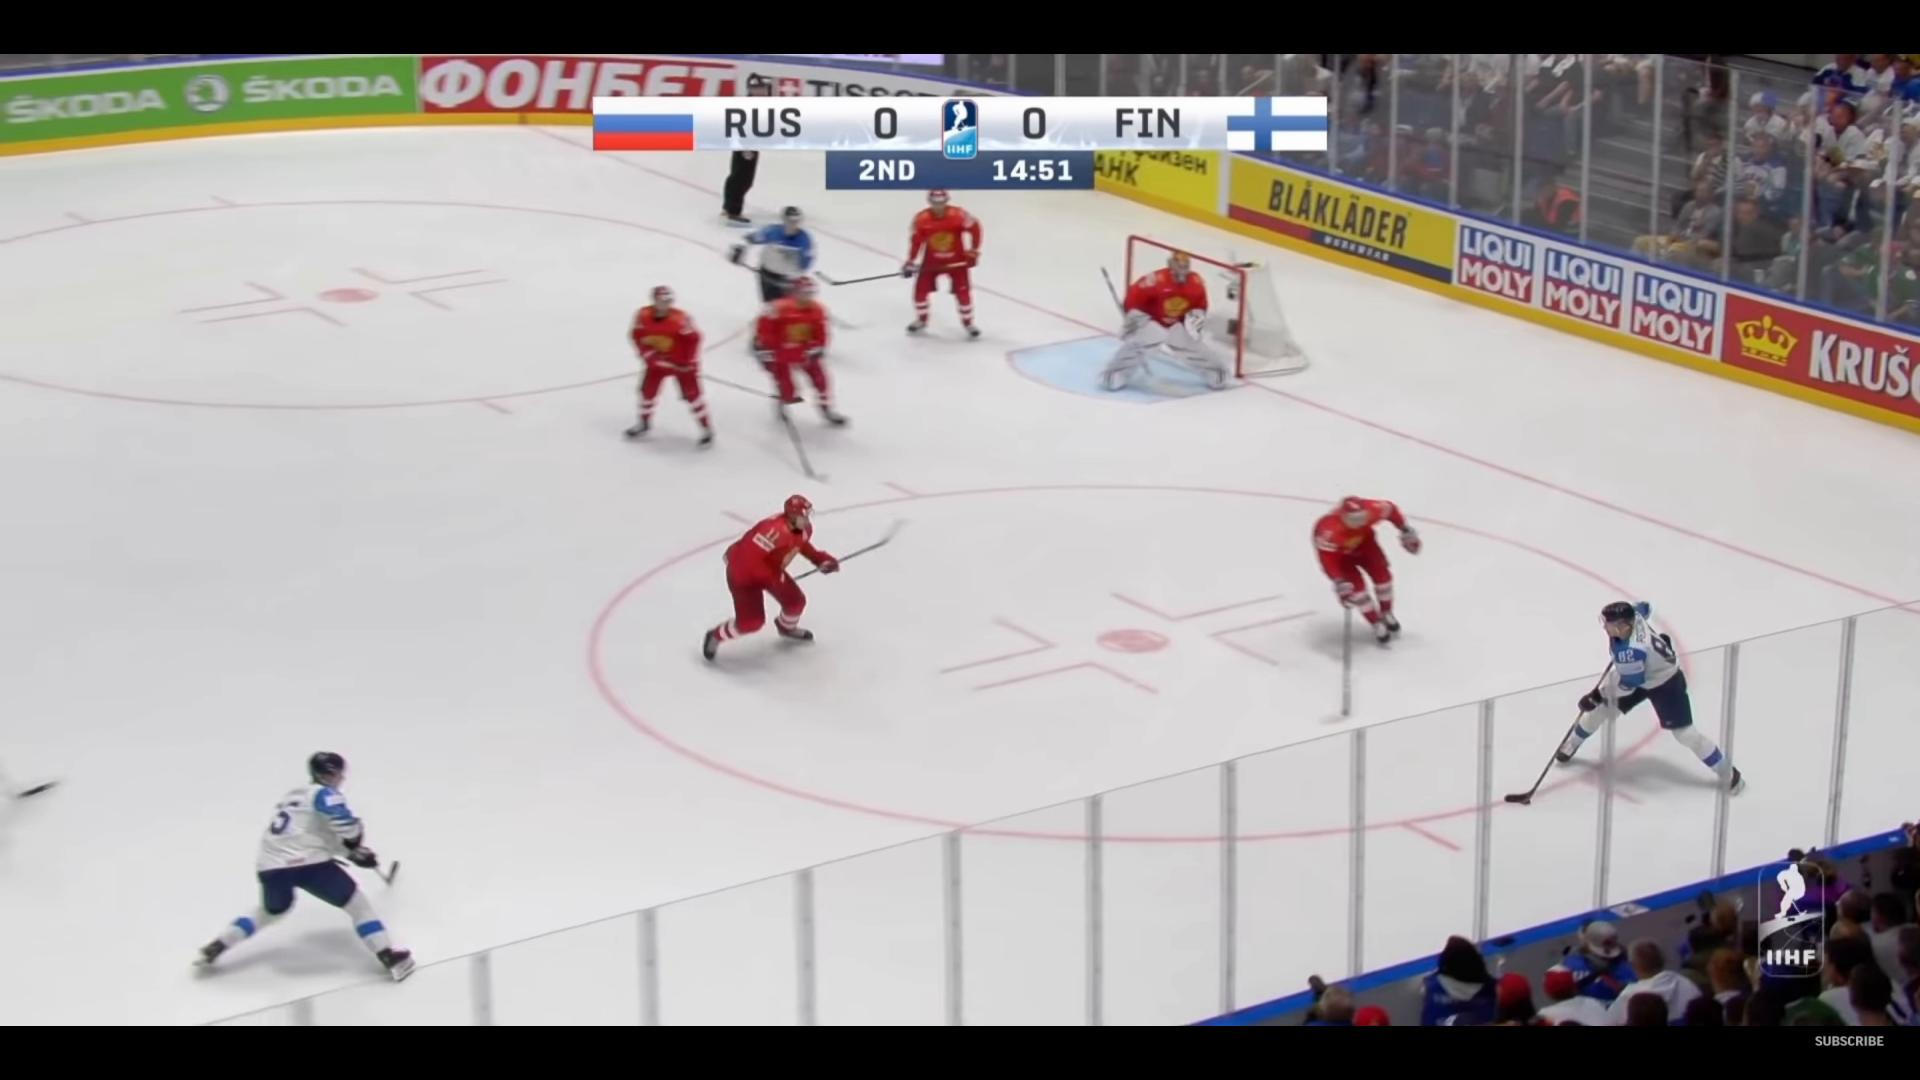puck: (1520, 798, 1531, 805)
